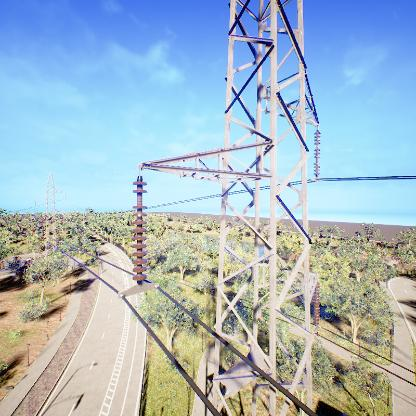insulator: (132, 179, 150, 286), (311, 128, 323, 180)
